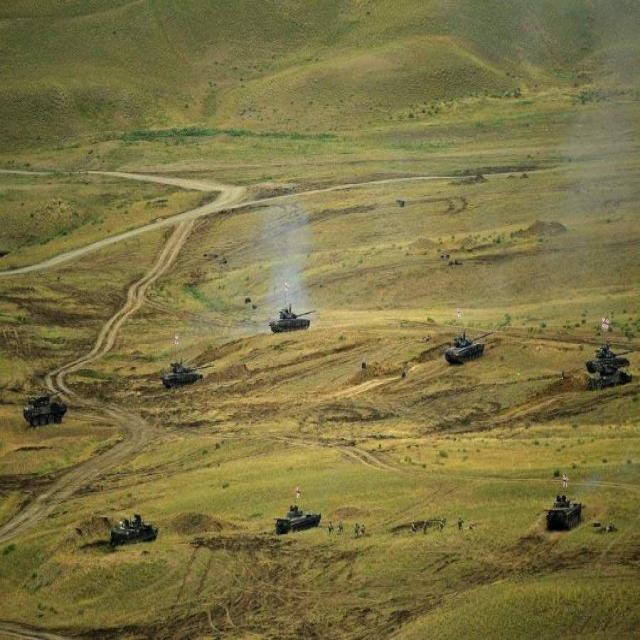tank: (442, 324, 497, 369), (274, 484, 322, 534), (108, 510, 160, 552), (583, 341, 637, 376), (544, 492, 586, 534), (160, 357, 215, 389), (23, 392, 68, 428), (268, 304, 318, 334)
